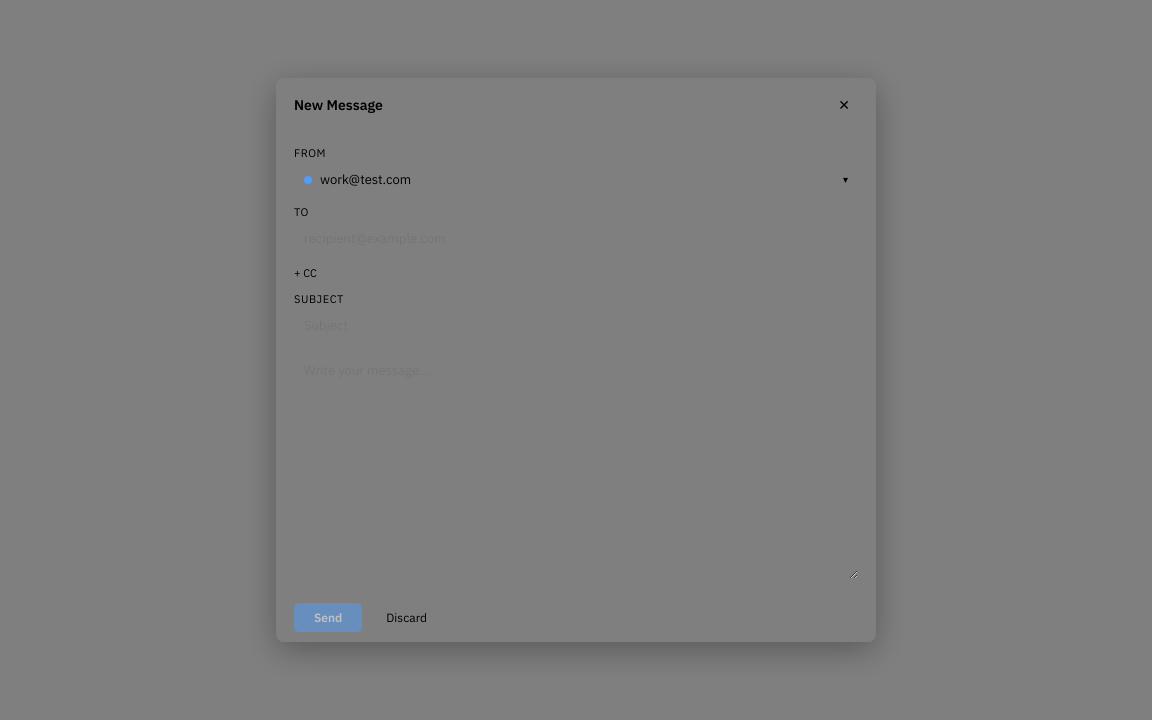
Scenario: ComposeModal › should list all account emails in the From dropdown
Note: Open the dropdown to see all accounts
Click the button "work@test.com ▾".
click(366, 180)  # box [294, 164, 858, 195]
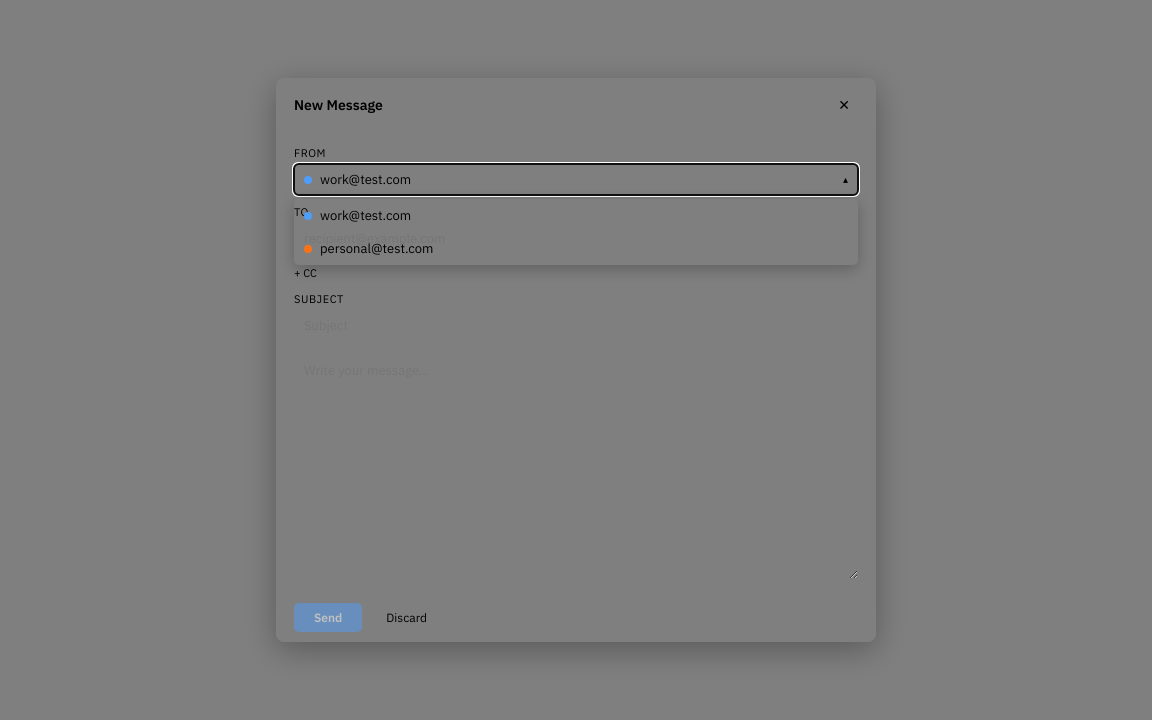
Expected: the button "personal@test.com" is shown, [294, 232, 858, 265]
